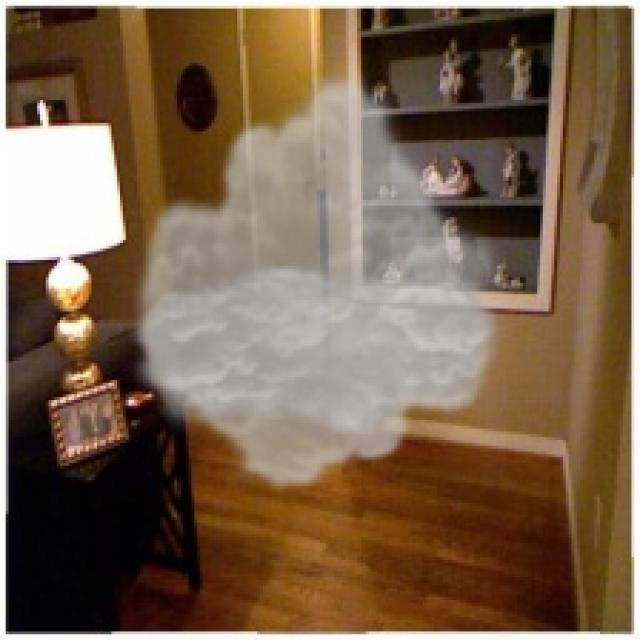Smoke: (122, 68, 508, 494)
